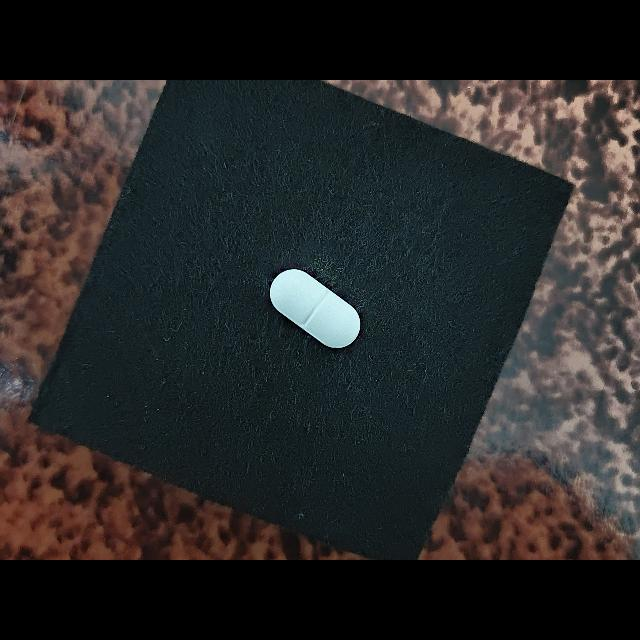Intact Pill: (269, 269, 361, 348)
